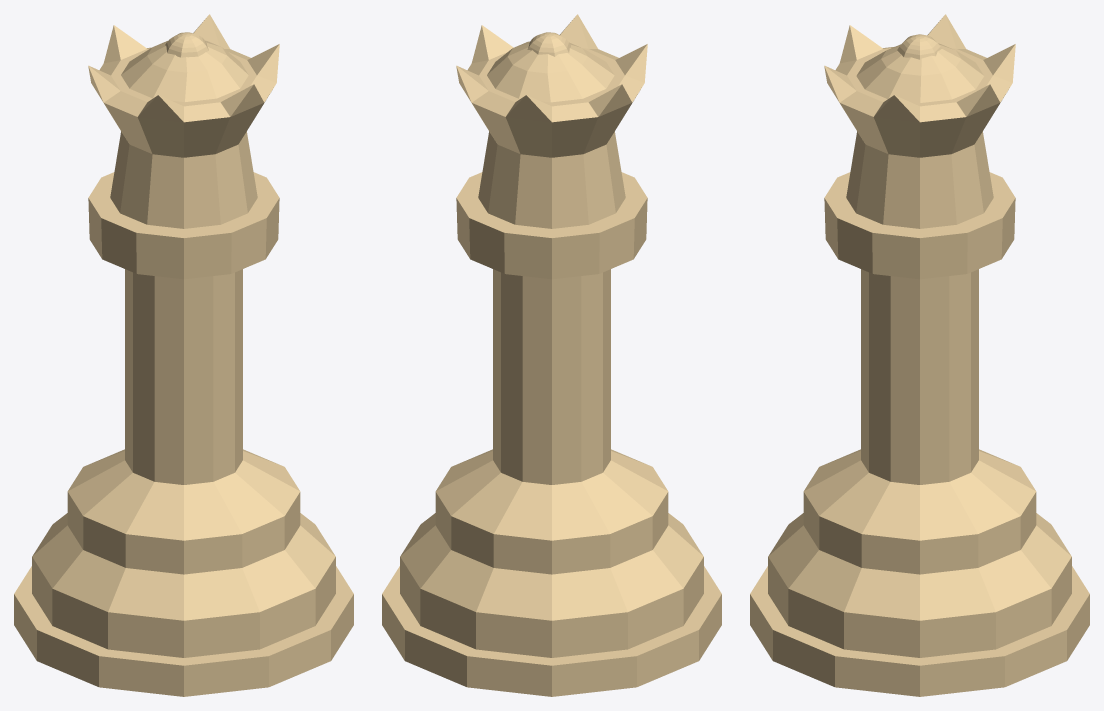
The model's file is lowpoly_q_w.glb.
3 views of the same model, side by side, from view 1: azimuth 30°, elevation 25°; view 2: azimuth 150°, elevation 25°; view 3: azimuth 270°, elevation 25° (orthographic).
Visible parts, largest first — view 1: Queen; view 2: Queen; view 3: Queen.
Boxes of the visible parts, box(x1,y1,x2,y2) form: Queen: box(14, 14, 353, 696); Queen: box(382, 14, 721, 696); Queen: box(750, 14, 1089, 696).
Bounding box in the file's own units: 0.0821 × 0.1573 × 0.0821.
